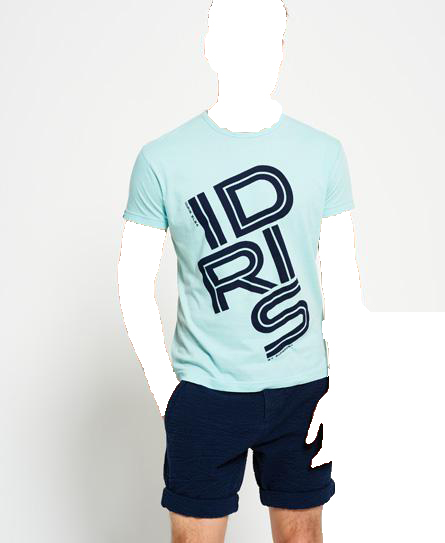teeshirt: (119, 112, 376, 392)
